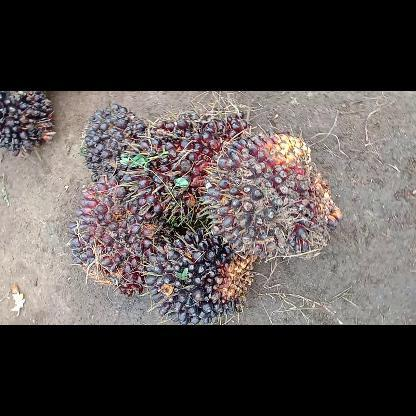TBS mentah: (202, 129, 342, 265), (132, 107, 248, 227), (64, 172, 170, 296), (141, 228, 261, 324), (76, 101, 152, 185)
